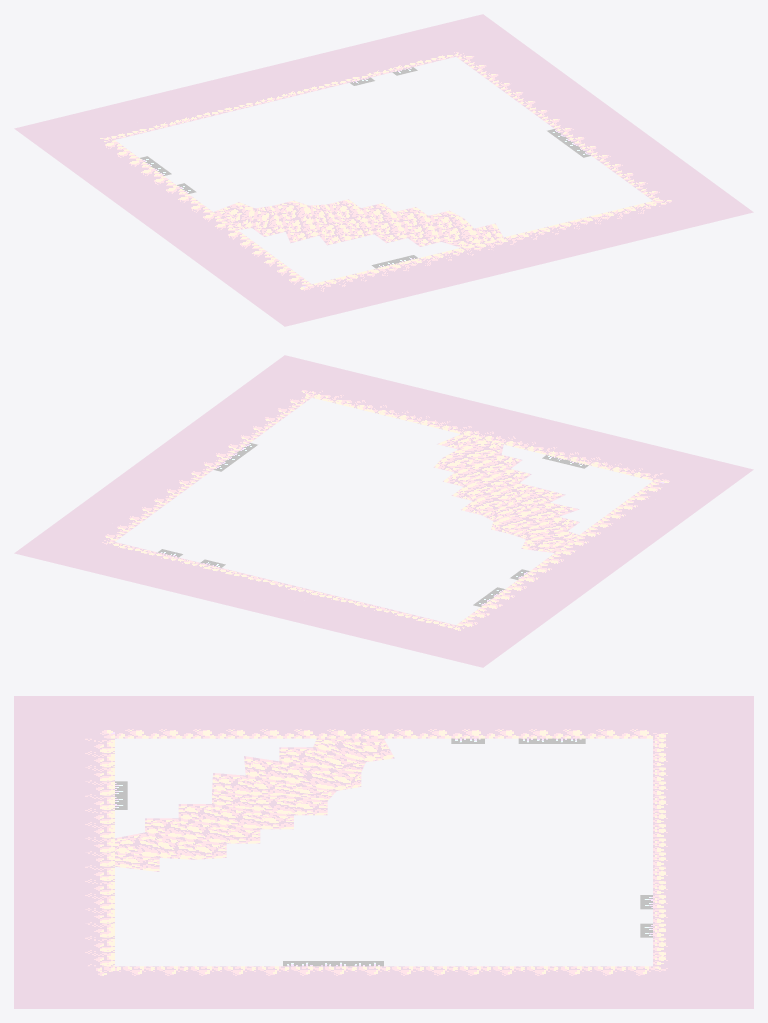
File: Coldth 2.glb
3 renders of one model, top to bottom at view 1: azimuth 30°, elevation 25°; view 2: azimuth 150°, elevation 25°; view 3: azimuth 270°, elevation 25°, orthographic. The views are drawn at different scales.
Visible parts, largest first — view 1: Cube; view 2: Cube; view 3: Cube.
Boxes of the visible parts, left/top/right/bottom form: Cube: left=14, top=14, right=753, bottom=326; Cube: left=14, top=355, right=753, bottom=667; Cube: left=14, top=696, right=753, bottom=1008.
Bounding box in the file's own units: 11 × 0 × 11.
